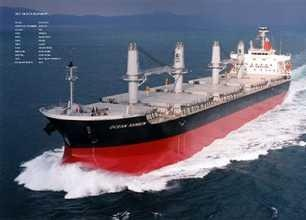Cargoship: (22, 21, 298, 175)
